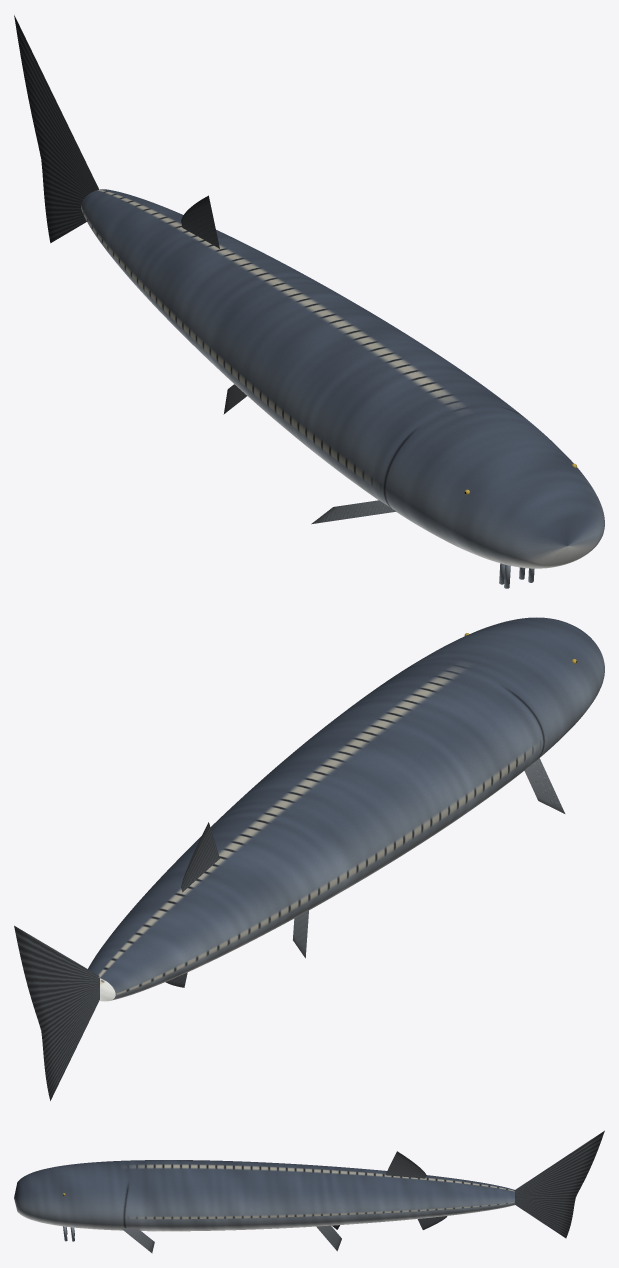
The model's file is beluga.obj.
The picture shows the model from 3 angles, top to bottom: view 1: azimuth 30°, elevation 25°; view 2: azimuth 150°, elevation 25°; view 3: azimuth 270°, elevation 25°; orthographic projection. The views are drawn at different scales.
Parts seen in each view (by area): view 1: body, fin_tail, fin_dorsal0, fin_pect_R; view 2: body, fin_tail, fin_dorsal0, fin_pect_R; view 3: body, fin_tail, fin_dorsal0, fin_pect_L, fin_pelv_L, fin_anal0.
Part boxes in pixels (<box>): body: <box>81,189,604,568</box>; fin_tail: <box>14,15,99,243</box>; fin_dorsal0: <box>181,195,219,248</box>; fin_pect_R: <box>311,500,396,524</box>; body: <box>88,617,604,1001</box>; fin_tail: <box>14,925,99,1100</box>; fin_dorsal0: <box>181,822,219,892</box>; fin_pect_R: <box>524,758,565,813</box>; body: <box>14,1160,514,1231</box>; fin_tail: <box>514,1130,604,1238</box>; fin_dorsal0: <box>385,1151,426,1178</box>; fin_pect_L: <box>120,1227,154,1253</box>; fin_pelv_L: <box>316,1225,341,1251</box>; fin_anal0: <box>417,1216,447,1229</box>.
Bounding box in the file's own units: 0.5845 × 0.4536 × 2.2.
6 materials, 3 textured.
